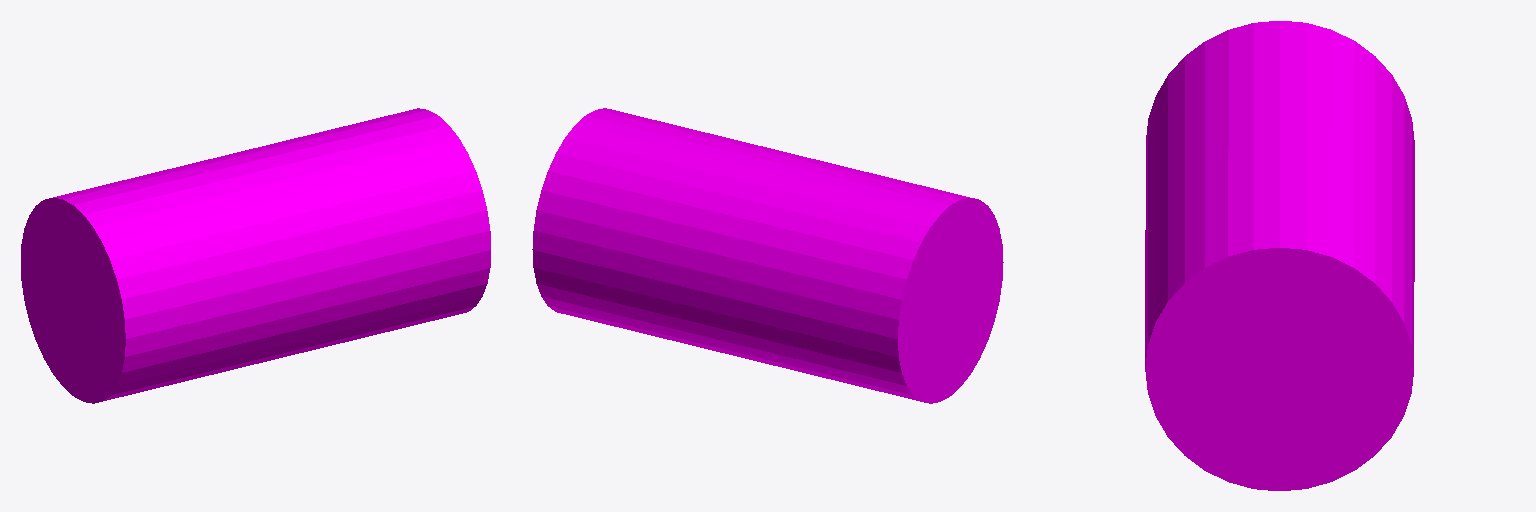
The robot description file, URDF, robot "helicopter":
<?xml version="1.0" ?>
<robot name="helicopter">
  <link name="baseLink">
    <contact>
      <lateral_friction value="1.0"/>
      <rolling_friction value="0.0"/>
      <contact_cfm value="0.0"/>
      <contact_erp value="1.0"/>
    </contact>
    <inertial>
      <origin rpy="0 0 0" xyz="0 0 0"/>
       <mass value="1.0"/>
       <inertia ixx="1" ixy="0" ixz="0" iyy="1" iyz="0" izz="1"/>
    </inertial>
    <visual>
      <origin rpy="1.57 0 1.57" xyz="0 0 0"/>
      <geometry>
         <cylinder radius="5" length="20"/>
      </geometry>
       <material name="pink">
        <color rgba="1 0 1 1"/>
      </material>
    </visual>
    <collision>
      <origin rpy="1.57 0 1.57" xyz="0 0 0"/>
      <geometry>
         <cylinder radius="5" length="20" />
      </geometry>
    </collision>
  </link>

<!--  <link name="verticalRod">-->
<!--    <inertial>-->
<!--      <origin rpy="0 0 0" xyz="0 0 0"/>-->
<!--       <mass value="1.0"/>-->
<!--       <inertia ixx="1" ixy="0" ixz="0" iyy="1" iyz="0" izz="1"/>-->
<!--    </inertial>-->
<!--    <visual>-->
<!--      <origin rpy="0 0 0" xyz="0 0 250"/>-->
<!--      <geometry>-->
<!--         <cylinder radius=".1" length="500"/>-->
<!--      </geometry>-->
<!--       <material name="green">-->
<!--        <color rgba="1 0 1 1"/>-->
<!--      </material>-->
<!--    </visual>-->
<!--    <collision>-->
<!--      <origin rpy="0 0 0" xyz="0 0 250"/>-->
<!--      <geometry>-->
<!--         <cylinder radius="5" length="500" />-->
<!--      </geometry>-->
<!--    </collision>-->
<!--  </link>-->
<!--<joint name="joint1" type="fixed" >-->
<!--		<parent link = "baseLink" />-->
<!--		<child link="verticalRod" />-->
<!--        <origin rpy = "0 0 0" xyz = "0.000000 0.000000 0.000000" />-->
<!--	</joint>-->
</robot>

--- Facts derived from the render (not from the file) ---
Views: 3 orthographic renders of the robot side by side, from view 1: azimuth 30°, elevation 25°; view 2: azimuth 150°, elevation 25°; view 3: azimuth 270°, elevation 25°.
Model helicopter with 1 links and 0 joints (none), rooted at baseLink, posed all joints at 0.
Visible links, largest first — view 1: baseLink; view 2: baseLink; view 3: baseLink.
Link boxes in pixels (<box>): baseLink: <box>21,108,490,403</box>; baseLink: <box>532,108,1003,403</box>; baseLink: <box>1145,21,1414,490</box>.
Bounding box of the posed robot: 20.01 × 10.02 × 10.02 m (x, y, z).
Geometry: primitives only (box / cylinder / sphere), no mesh files.